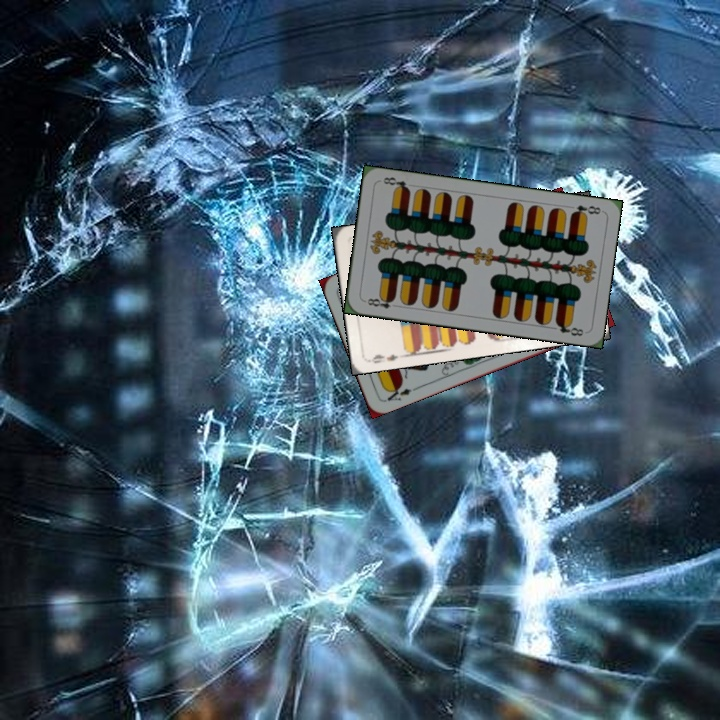E8: (360, 293, 401, 311), (567, 201, 603, 219)
E9: (365, 350, 401, 366)
EA: (381, 381, 420, 404)
